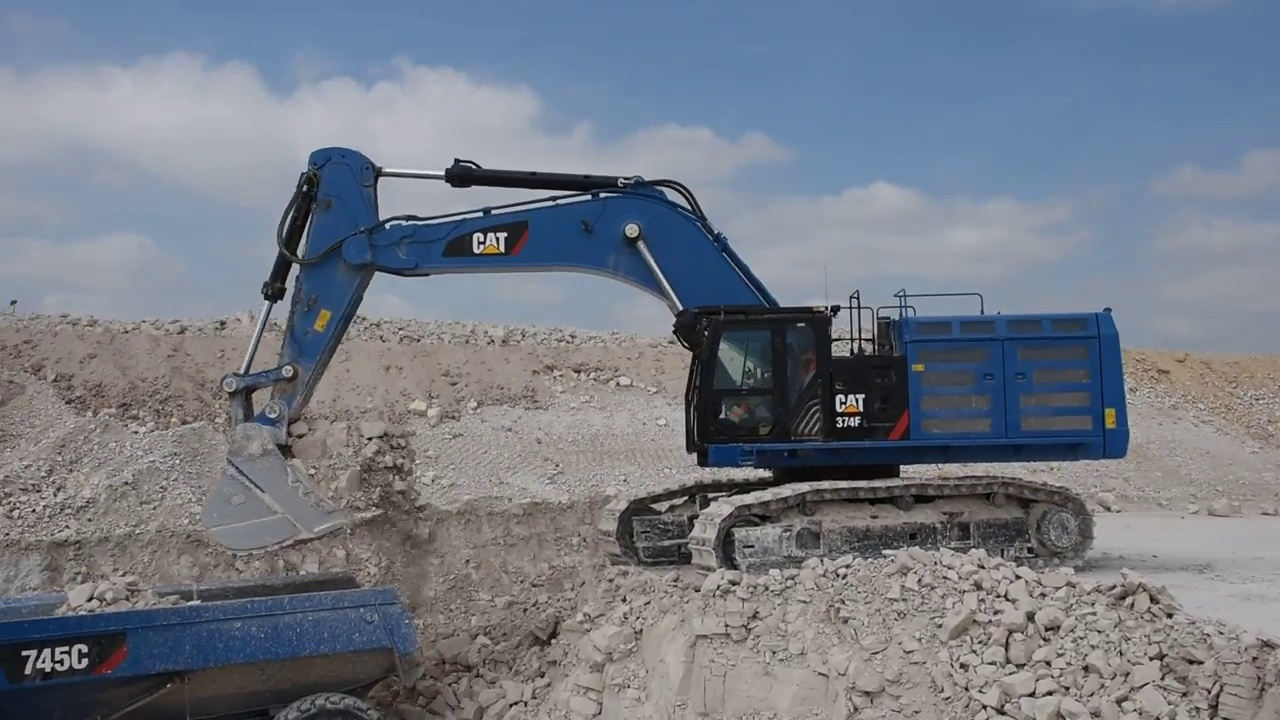dumper: (1, 576, 417, 720)
excavator: (199, 145, 1130, 575)
